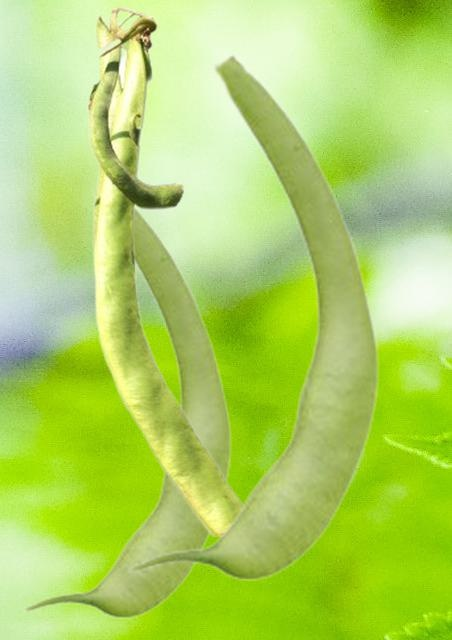french_bean: (127, 50, 380, 579), (22, 185, 232, 617), (86, 6, 243, 535)
